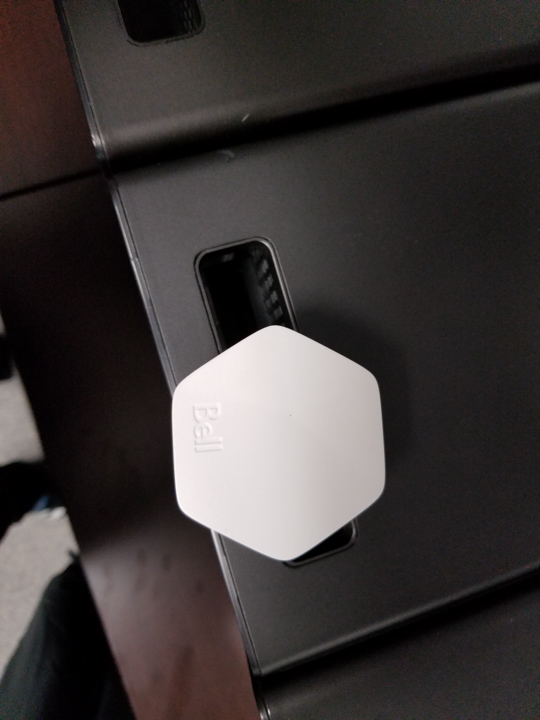pod: (161, 320, 397, 569)
